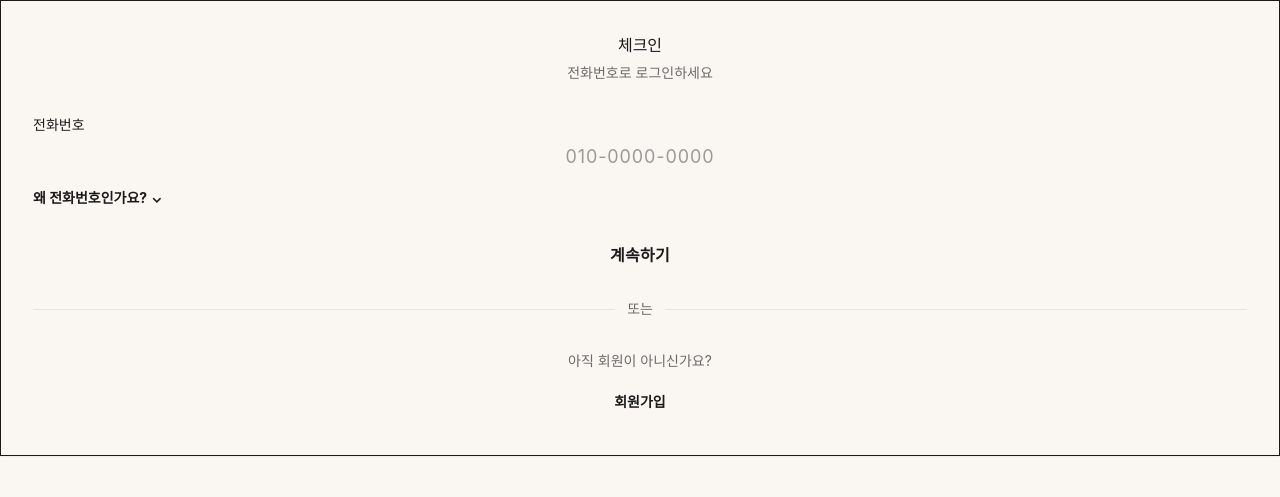
Test: 로그인: SUSPENDED 라우팅 정합 › V39-WEB-LOGIN-01 정상·거절: 전화번호 이유 링크는 꺾쇠로 상태를 밝히고 요청 전에는 설명을 숨긴다
The image size is (1280, 497).
Check: the text "중복 계정 방지" is not shown
What coordinates should you click on to do the following:
click the button "왜 전화번호인가요? ⌄"
I would click on:
 (98, 197)
Its box is top-left (33, 175), bottom-right (162, 219).
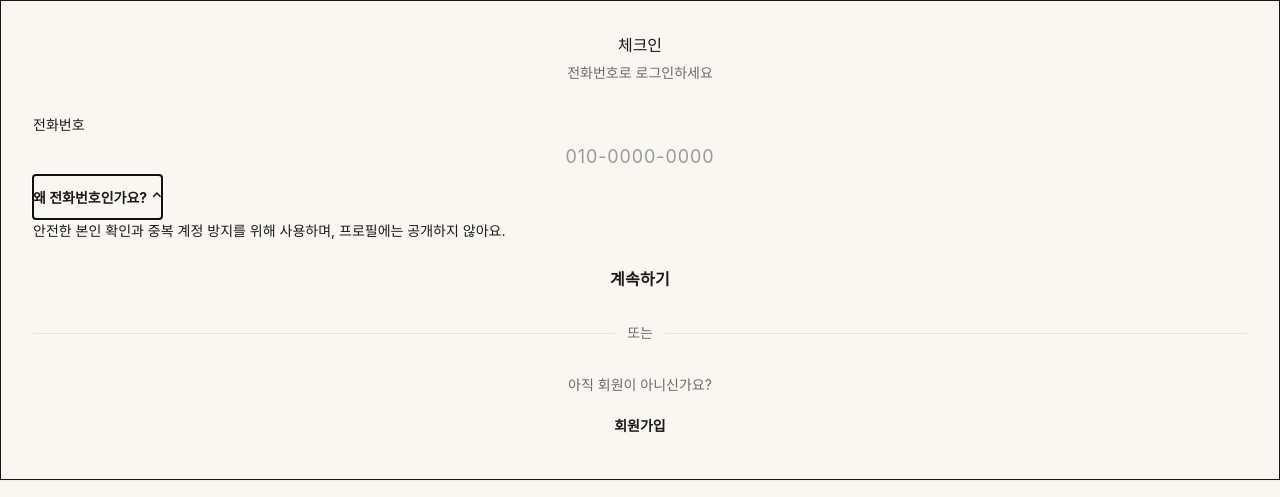
Check: the button "왜 전화번호인가요? ⌃" is expanded, box top-left (33, 175), bottom-right (162, 219)
Check: the text "안전한 본인 확인과 중복 계정 방지를 위해 사용하며, 프로필에는 공개하지 않아요." is shown, box top-left (33, 222), bottom-right (506, 239)
